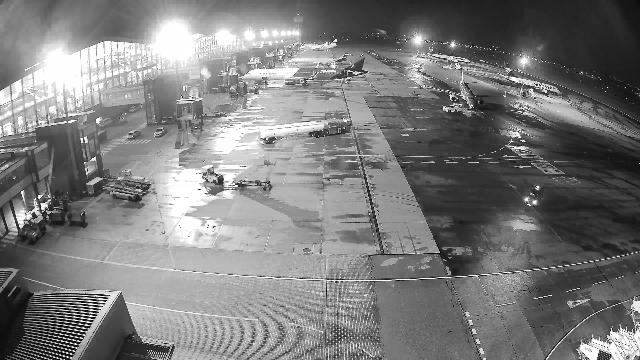Aircraft: (242, 52, 369, 86), (422, 65, 506, 108), (497, 61, 560, 94), (426, 46, 470, 63), (287, 53, 352, 64), (300, 39, 337, 49)
Airport_Tractor: (27, 218, 47, 242), (201, 164, 224, 184), (19, 216, 37, 240), (34, 194, 54, 211), (248, 86, 259, 92)
Baggage_Trolley: (86, 177, 104, 195), (67, 210, 86, 225), (52, 199, 68, 213), (48, 211, 65, 223), (31, 210, 47, 220)
Conveyor_Belt: (103, 176, 146, 201), (111, 169, 151, 190), (203, 106, 227, 118)
Fuel_Tuck: (257, 117, 351, 144)
Pushback_Tug: (442, 103, 462, 112)
